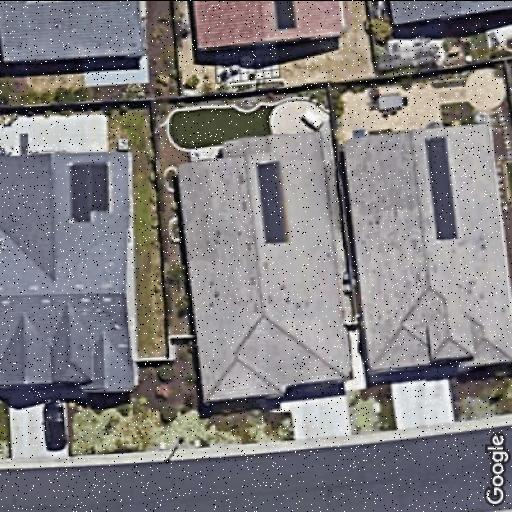solar-panel: (424, 134, 460, 242), (254, 160, 290, 245), (68, 160, 114, 222), (274, 0, 298, 30)
